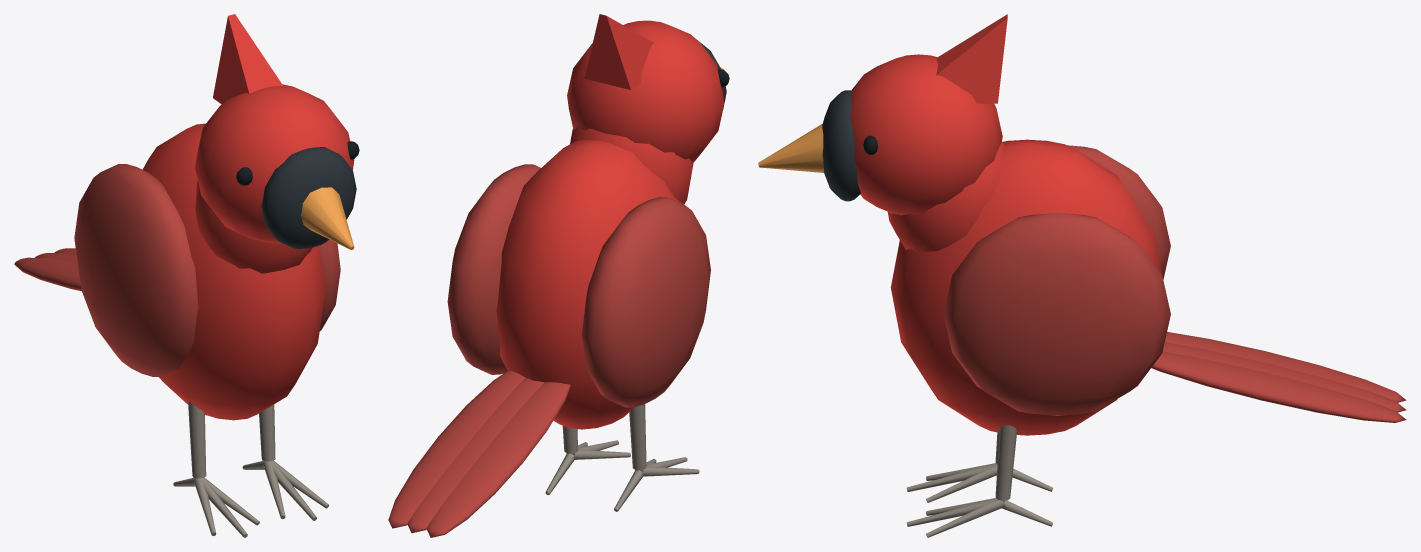
Rendered from bird_northern_cardinal.glb.
3 renders of one model, left to right at view 1: azimuth 30°, elevation 25°; view 2: azimuth 150°, elevation 25°; view 3: azimuth 270°, elevation 25°, orthographic. The views are drawn at different scales.
Parts seen in each view (by area): view 1: Cardinal_Body, Cardinal_Folded_Wing_-1, Cardinal_Head, Cardinal_Black_Face_Mask, Cardinal_Neck, Cardinal_Pointy_Crest, Cardinal_Orange_Conical_Beak, Cardinal_Long_Tail_Feather_0, Cardinal_Folded_Wing_1, Cardinal_Leg_-1, Cardinal_Leg_1, Cardinal_Front_Toe_-1_1 (+5 smaller); view 2: Cardinal_Body, Cardinal_Folded_Wing_-1, Cardinal_Head, Cardinal_Folded_Wing_1, Cardinal_Long_Tail_Feather_0, Cardinal_Long_Tail_Feather_2, Cardinal_Long_Tail_Feather_1, Cardinal_Pointy_Crest, Cardinal_Neck, Cardinal_Leg_-1, Cardinal_Front_Toe_-1_0, Cardinal_Front_Toe_1_0; view 3: Cardinal_Folded_Wing_1, Cardinal_Body, Cardinal_Head, Cardinal_Long_Tail_Feather_2, Cardinal_Neck, Cardinal_Pointy_Crest, Cardinal_Black_Face_Mask, Cardinal_Long_Tail_Feather_0, Cardinal_Long_Tail_Feather_1, Cardinal_Folded_Wing_-1, Cardinal_Orange_Conical_Beak, Cardinal_Leg_1.
Part boxes in pixels (x1,y1,x2,y2): Cardinal_Body: (142, 123, 325, 420); Cardinal_Folded_Wing_-1: (74, 164, 198, 376); Cardinal_Head: (195, 84, 354, 243); Cardinal_Black_Face_Mask: (261, 147, 356, 248); Cardinal_Neck: (195, 180, 312, 273); Cardinal_Pointy_Crest: (213, 14, 282, 104); Cardinal_Orange_Conical_Beak: (300, 187, 354, 249); Cardinal_Long_Tail_Feather_0: (14, 257, 81, 291); Cardinal_Folded_Wing_1: (319, 239, 340, 330); Cardinal_Leg_-1: (188, 401, 206, 478); Cardinal_Leg_1: (259, 404, 275, 461); Cardinal_Front_Toe_-1_1: (195, 478, 247, 537); Cardinal_Body: (496, 139, 684, 429); Cardinal_Folded_Wing_-1: (582, 197, 710, 407); Cardinal_Head: (567, 20, 724, 162); Cardinal_Folded_Wing_1: (447, 164, 540, 374); Cardinal_Long_Tail_Feather_0: (426, 382, 570, 537); Cardinal_Long_Tail_Feather_2: (388, 370, 525, 528); Cardinal_Long_Tail_Feather_1: (407, 378, 544, 532); Cardinal_Pointy_Crest: (584, 14, 653, 89); Cardinal_Neck: (570, 126, 693, 203); Cardinal_Leg_-1: (629, 404, 646, 470); Cardinal_Front_Toe_-1_0: (640, 466, 699, 476); Cardinal_Front_Toe_1_0: (572, 449, 630, 459); Cardinal_Folded_Wing_1: (943, 212, 1170, 415); Cardinal_Body: (890, 139, 1161, 435); Cardinal_Head: (850, 54, 1002, 215); Cardinal_Long_Tail_Feather_2: (1151, 351, 1406, 422); Cardinal_Neck: (887, 141, 1005, 253); Cardinal_Pointy_Crest: (936, 14, 1007, 103); Cardinal_Black_Face_Mask: (822, 90, 860, 201); Cardinal_Long_Tail_Feather_0: (1165, 332, 1406, 402); Cardinal_Long_Tail_Feather_1: (1163, 342, 1406, 412); Cardinal_Folded_Wing_-1: (1067, 145, 1170, 279); Cardinal_Orange_Conical_Beak: (758, 124, 823, 172); Cardinal_Leg_1: (995, 425, 1016, 500).
Bounding box in the file's own units: 0.1487 × 0.3305 × 0.3934.
